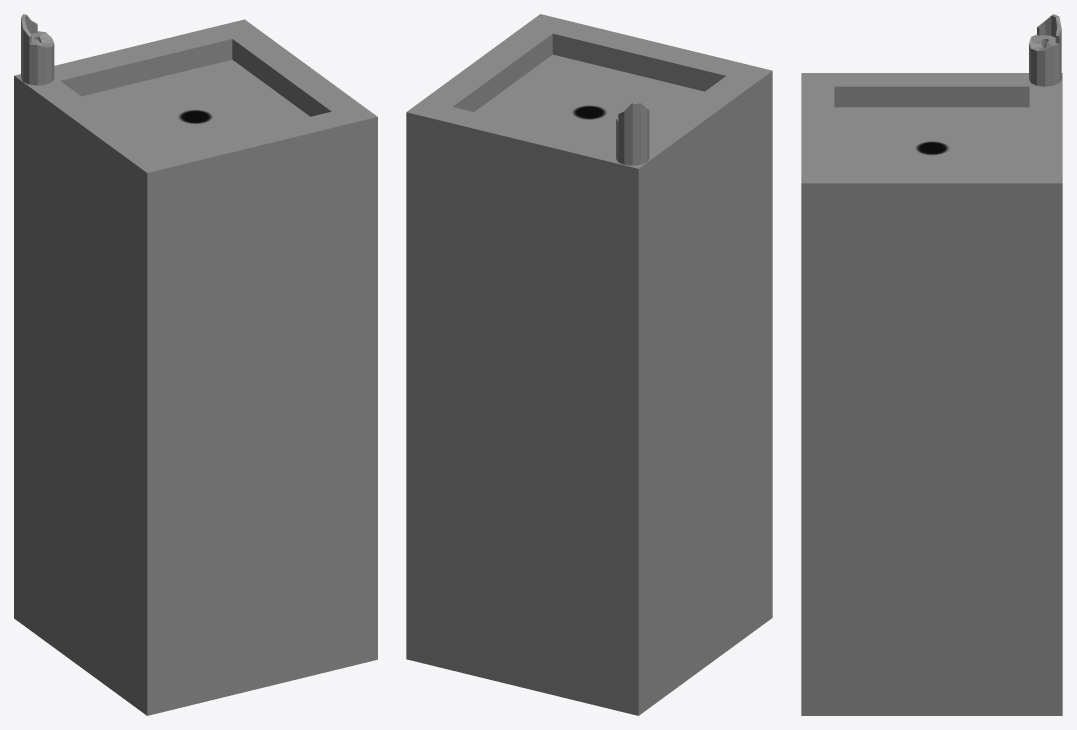
Rendered from drinking_founntain.fbx.
The picture shows the model from 3 angles, left to right: view 1: azimuth 30°, elevation 25°; view 2: azimuth 150°, elevation 25°; view 3: azimuth 270°, elevation 25°; orthographic projection. The views are drawn at different scales.
Parts seen in each view (by area): view 1: Cube; view 2: Cube; view 3: Cube.
Boxes of the visible parts, box(x1,y1,x2,y2) form: Cube: box(14, 14, 377, 715); Cube: box(406, 14, 772, 715); Cube: box(801, 14, 1062, 715).
Size of the model in its own units: 40 by 100 by 40.
1 material, 1 textured.
